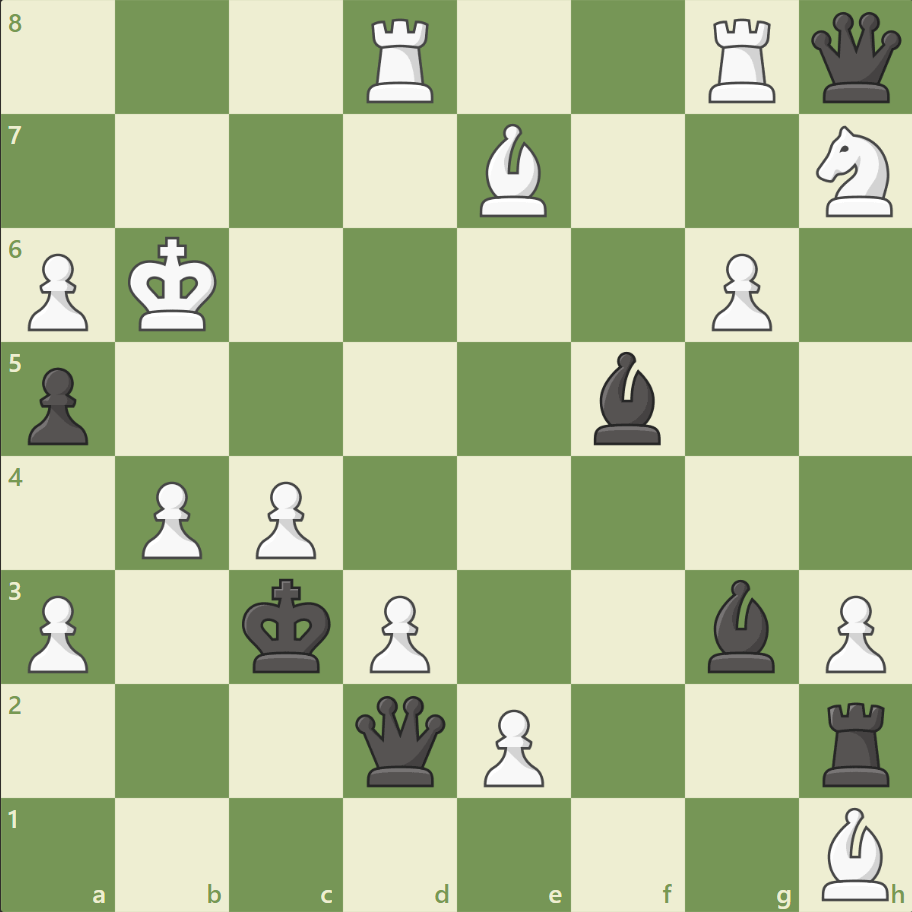B: (812, 801, 896, 904), (471, 120, 555, 222)
K: (124, 231, 224, 339)
N: (806, 121, 903, 223)
P: (20, 246, 95, 337), (701, 246, 776, 337), (133, 473, 208, 564), (247, 473, 322, 564), (20, 586, 95, 677), (474, 700, 549, 791), (361, 586, 435, 677), (815, 586, 889, 677)
R: (700, 12, 783, 109), (360, 12, 442, 109)
b: (585, 347, 669, 449), (698, 574, 782, 676)
k: (238, 571, 338, 679)
p: (20, 359, 95, 450)
q: (805, 9, 904, 108), (351, 690, 450, 789)
r: (814, 693, 897, 790)
